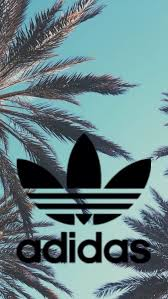adidas: (13, 132, 152, 264)
